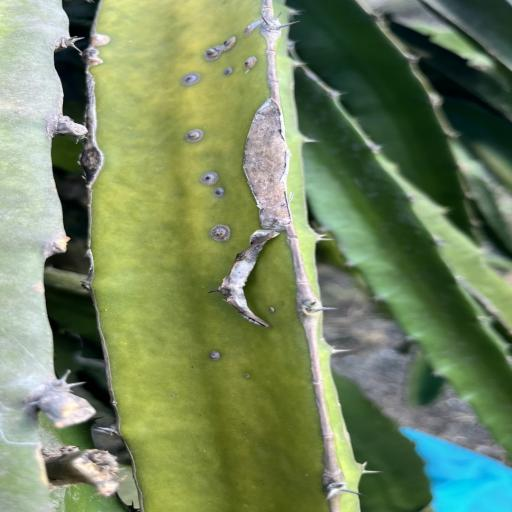stemcanker: (251, 214, 299, 394), (278, 199, 304, 389), (196, 34, 238, 62), (205, 219, 237, 250), (173, 120, 220, 140), (183, 125, 212, 149), (200, 343, 228, 367), (194, 169, 226, 187), (157, 72, 218, 81), (207, 188, 235, 204), (242, 54, 261, 72), (179, 74, 204, 87), (236, 369, 255, 383), (222, 68, 240, 80), (241, 25, 257, 37), (263, 305, 280, 315)
